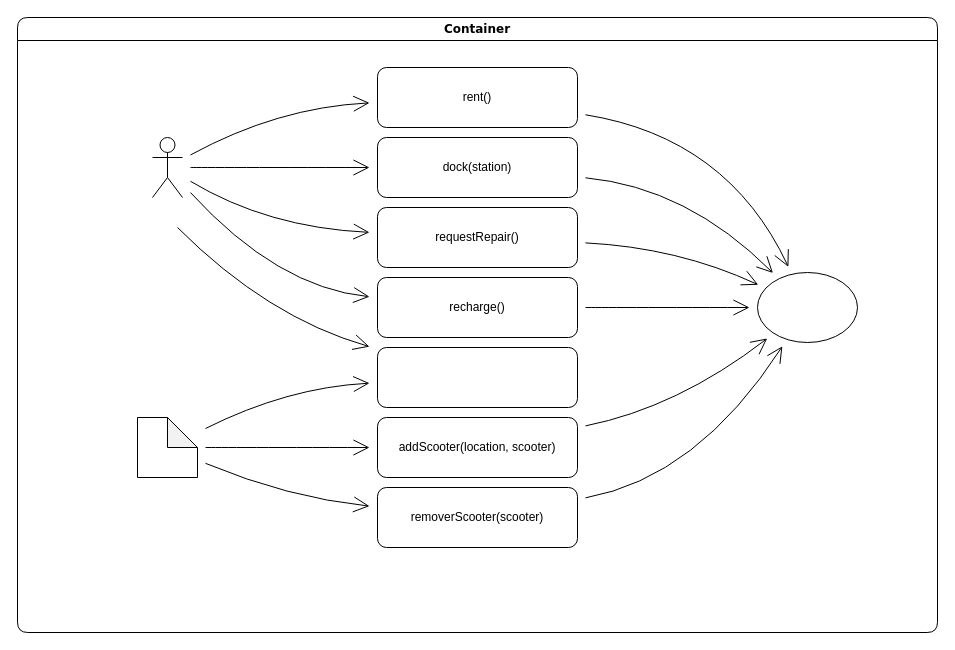
Image size: 955x650. Some labels were removed from this diagram. The box of each missing label's shape, as (x1, y1, x2, y2) in pixels:
Actor: (152, 136, 182, 198)
App: (136, 416, 198, 478)
register(user) V logIn(username, password): (376, 346, 578, 408)
Scooter: (756, 272, 858, 342)
